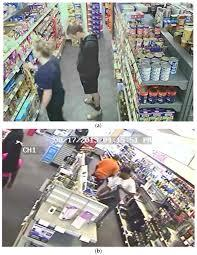Normal: (18, 24, 181, 245)
